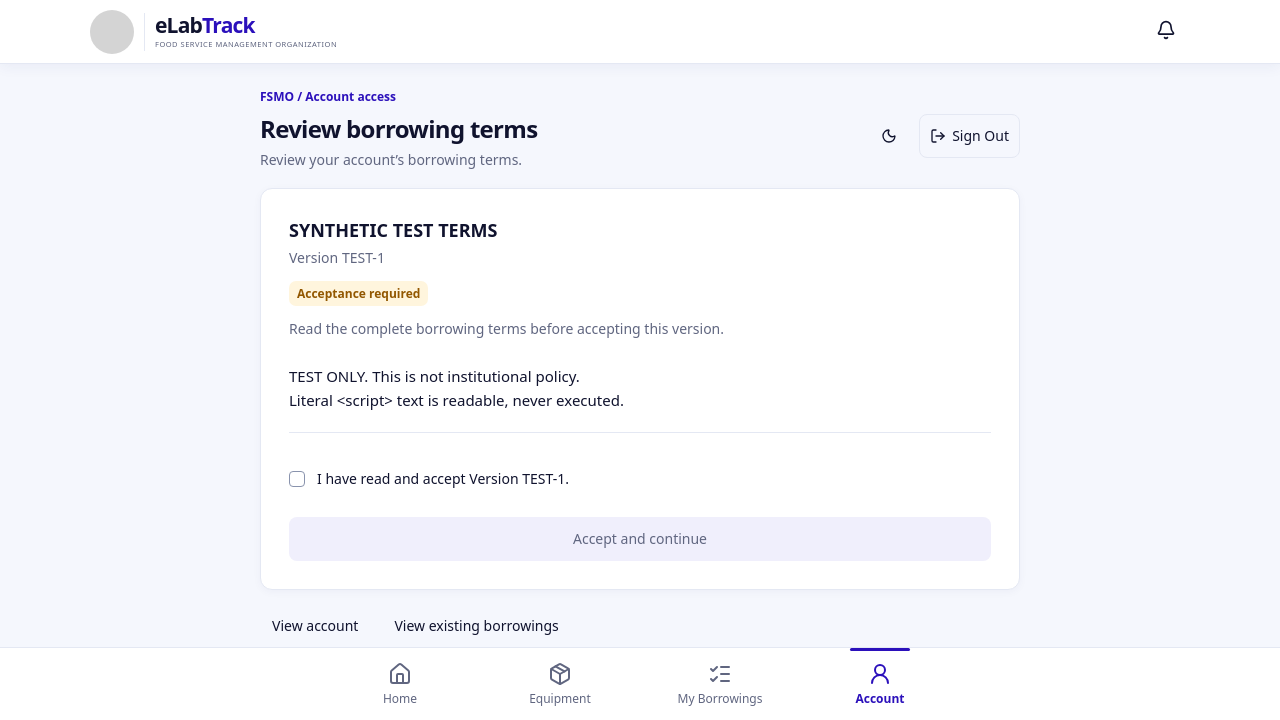
Test: Phase 4B authoritative terms experience › does not infer consent after failed acceptance 0
This screenshot has width=1280, height=720.
Click the checkbox named "I have read and accept Version TEST-1.": (297, 479) [289,471,305,487]
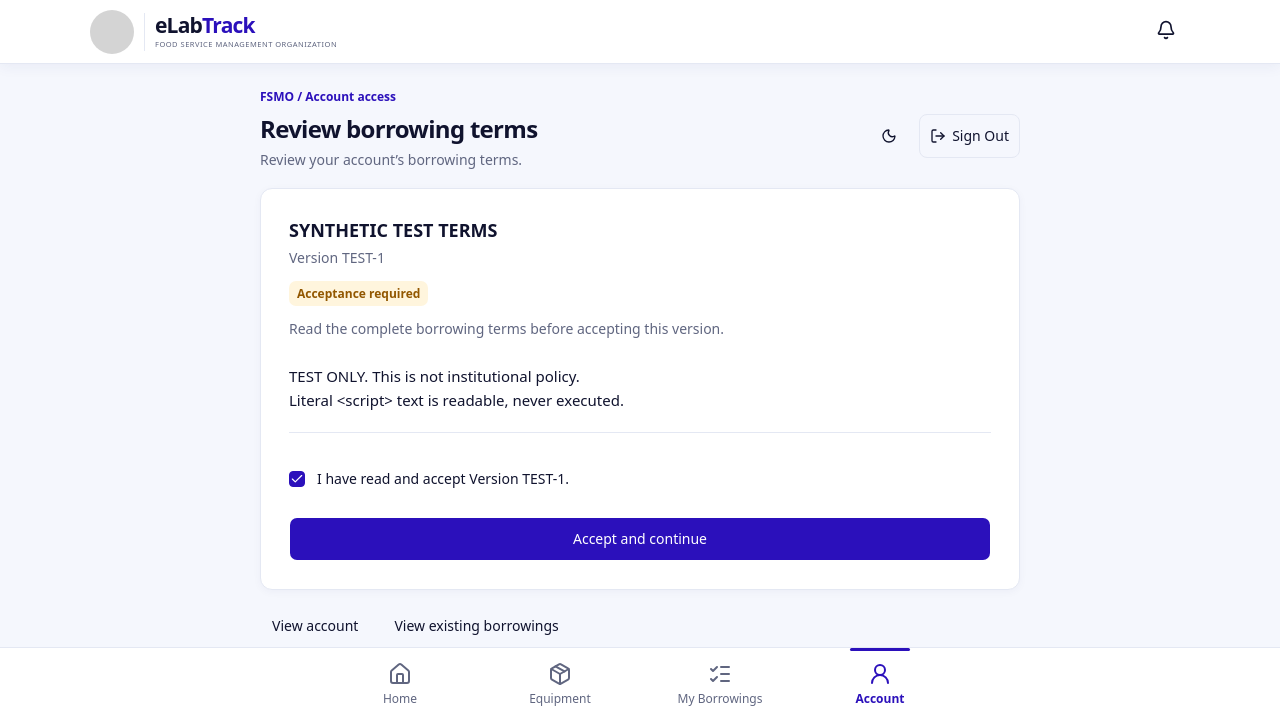
Click the button "Accept and continue": (640, 539) [289,517,991,561]
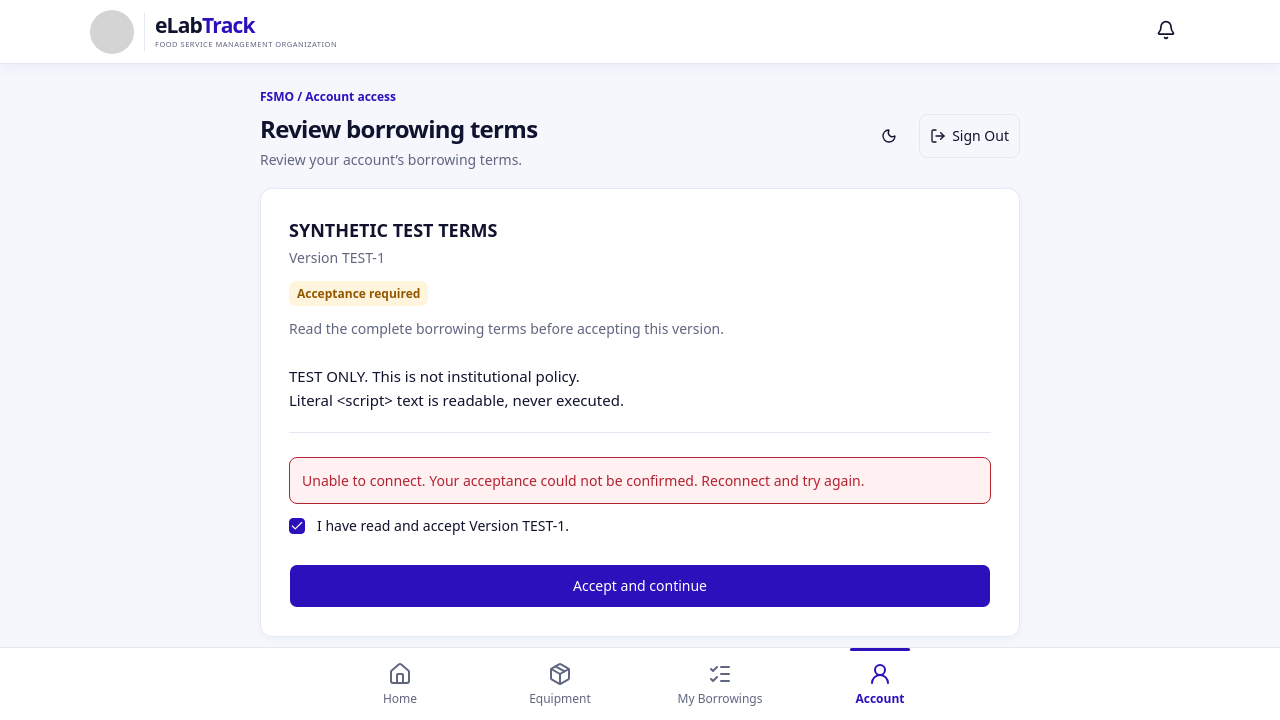
Check: the button "Accept and continue" is enabled, box [289,564,991,608]
Check: the message shows "Your acceptance could not be confirmed", box [302,471,864,490]
